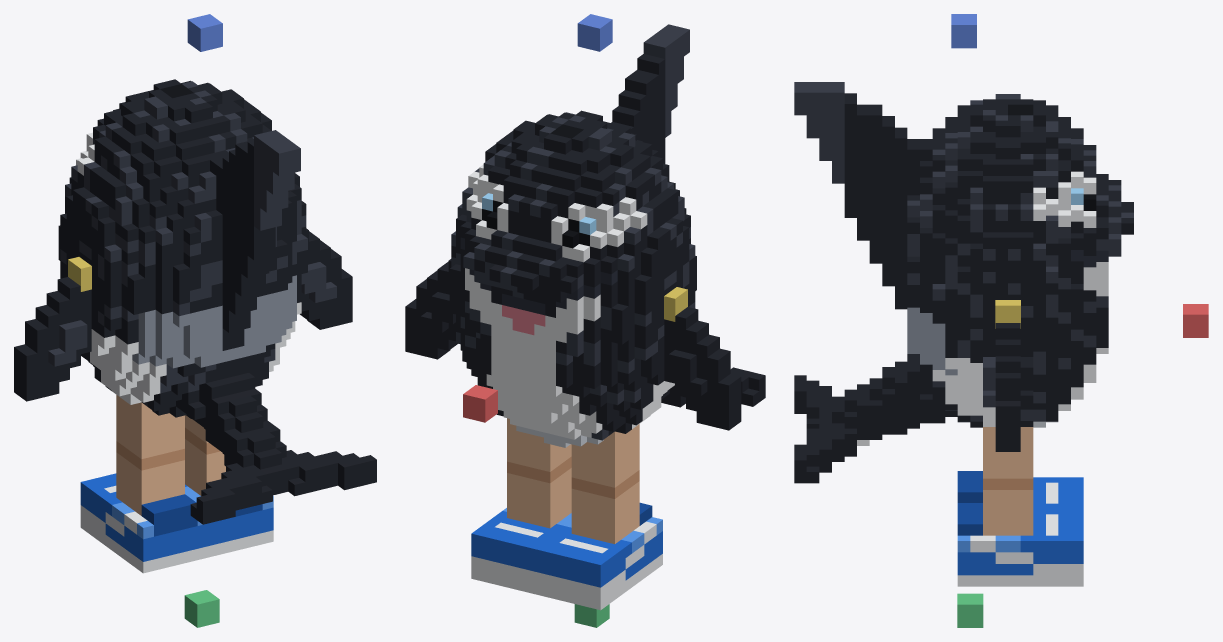
The model's file is OrcaleroOrcala.glb.
3 renders of one model, left to right at view 1: azimuth 30°, elevation 25°; view 2: azimuth 150°, elevation 25°; view 3: azimuth 270°, elevation 25°, orthographic.
Visible parts, largest first — view 1: OrcaleroOrcala_Body, OrcaleroOrcala_Leg2, OrcaleroOrcala_Tail5, OrcaleroOrcala_Arm4, OrcaleroOrcala_Leg1, OrcaleroOrcala_Arm3, OrcaleroOrcala_Top, OrcaleroOrcala_Built, OrcaleroOrcala_Pivot4; view 2: OrcaleroOrcala_Body, OrcaleroOrcala_Leg2, OrcaleroOrcala_Leg1, OrcaleroOrcala_Arm4, OrcaleroOrcala_Arm3, OrcaleroOrcala_Tail5, OrcaleroOrcala_Top, OrcaleroOrcala_Front, OrcaleroOrcala_Built, OrcaleroOrcala_Pivot4; view 3: OrcaleroOrcala_Body, OrcaleroOrcala_Leg1, OrcaleroOrcala_Tail5, OrcaleroOrcala_Arm3, OrcaleroOrcala_Leg2, OrcaleroOrcala_Built, OrcaleroOrcala_Top, OrcaleroOrcala_Front, OrcaleroOrcala_Pivot3.
Boxes of the visible parts, box(x1,y1,x2,y2) form: OrcaleroOrcala_Body: box(58, 79, 307, 418); OrcaleroOrcala_Leg2: box(80, 395, 208, 573); OrcaleroOrcala_Tail5: box(182, 364, 376, 524); OrcaleroOrcala_Arm4: box(14, 277, 91, 401); OrcaleroOrcala_Leg1: box(185, 415, 273, 557); OrcaleroOrcala_Arm3: box(299, 228, 352, 329); OrcaleroOrcala_Top: box(187, 14, 222, 51); OrcaleroOrcala_Built: box(184, 590, 219, 627); OrcaleroOrcala_Pivot4: box(68, 257, 91, 291); OrcaleroOrcala_Body: box(449, 24, 696, 447); OrcaleroOrcala_Leg2: box(536, 424, 662, 610); OrcaleroOrcala_Leg1: box(471, 418, 571, 594); OrcaleroOrcala_Arm4: box(664, 307, 741, 430); OrcaleroOrcala_Arm3: box(405, 259, 457, 359); OrcaleroOrcala_Tail5: box(661, 367, 765, 407); OrcaleroOrcala_Top: box(577, 14, 612, 51); OrcaleroOrcala_Front: box(463, 385, 497, 422); OrcaleroOrcala_Built: box(574, 604, 609, 627); OrcaleroOrcala_Pivot4: box(664, 287, 687, 321); OrcaleroOrcala_Body: box(794, 82, 1133, 427); OrcaleroOrcala_Leg1: box(957, 427, 1083, 586); OrcaleroOrcala_Tail5: box(794, 354, 957, 483); OrcaleroOrcala_Arm3: box(983, 323, 1033, 451); OrcaleroOrcala_Leg2: box(957, 471, 1083, 508); OrcaleroOrcala_Built: box(957, 593, 983, 627); OrcaleroOrcala_Top: box(951, 14, 976, 48); OrcaleroOrcala_Front: box(1183, 304, 1208, 337); OrcaleroOrcala_Pivot3: box(995, 300, 1020, 328).
Bounding box in the file's own units: 3.66 × 6.45 × 4.02.
1 material, 1 textured.
